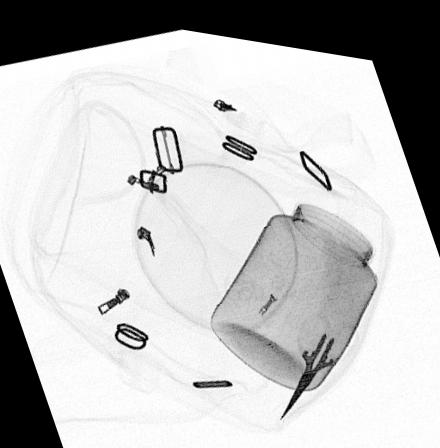Scissors: (275, 299, 364, 412)
